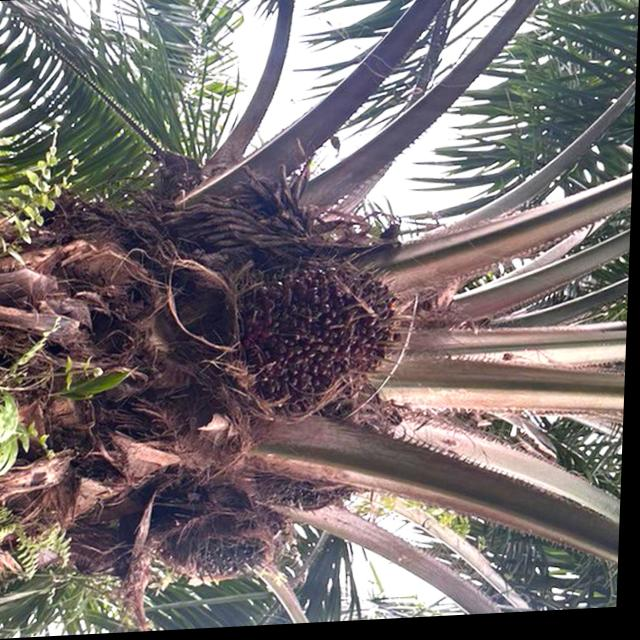ripe: (244, 262, 415, 423), (164, 481, 293, 582)
